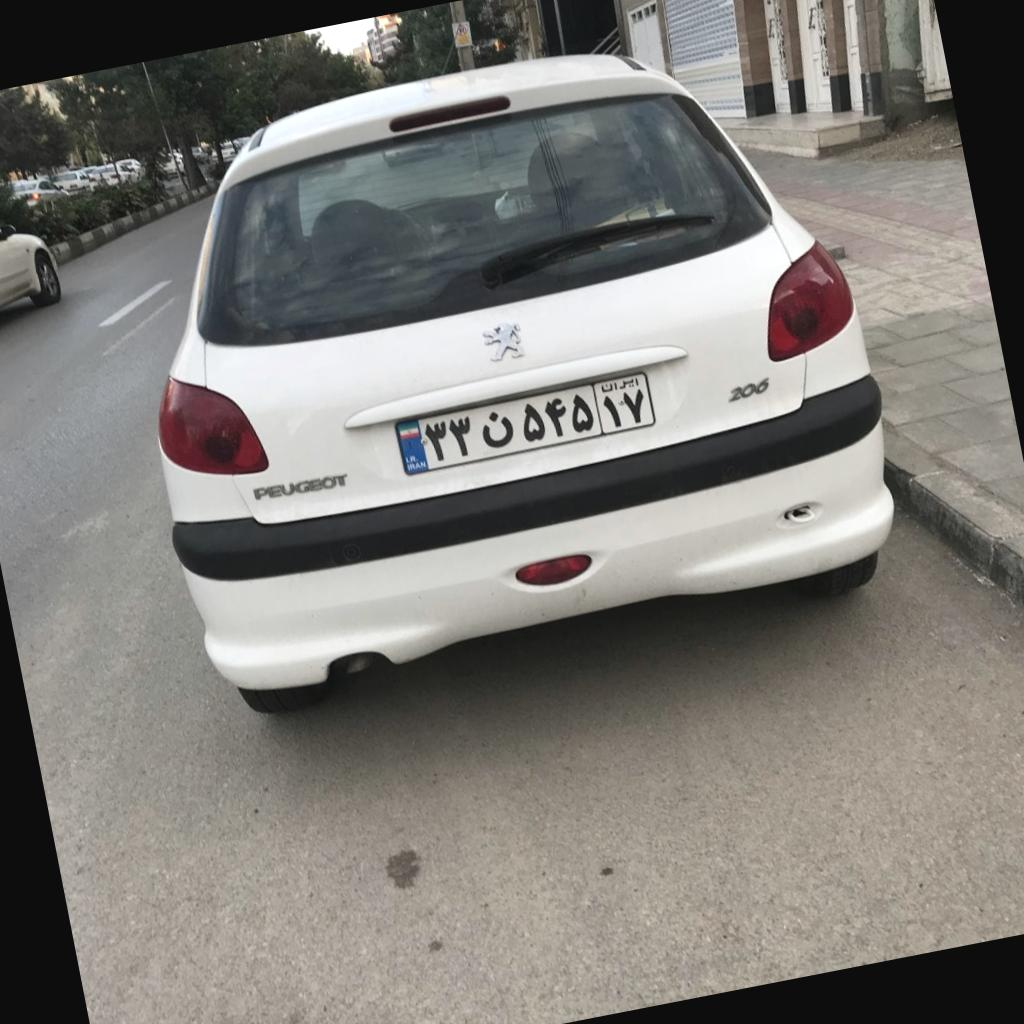Plates: (396, 372, 656, 476)
